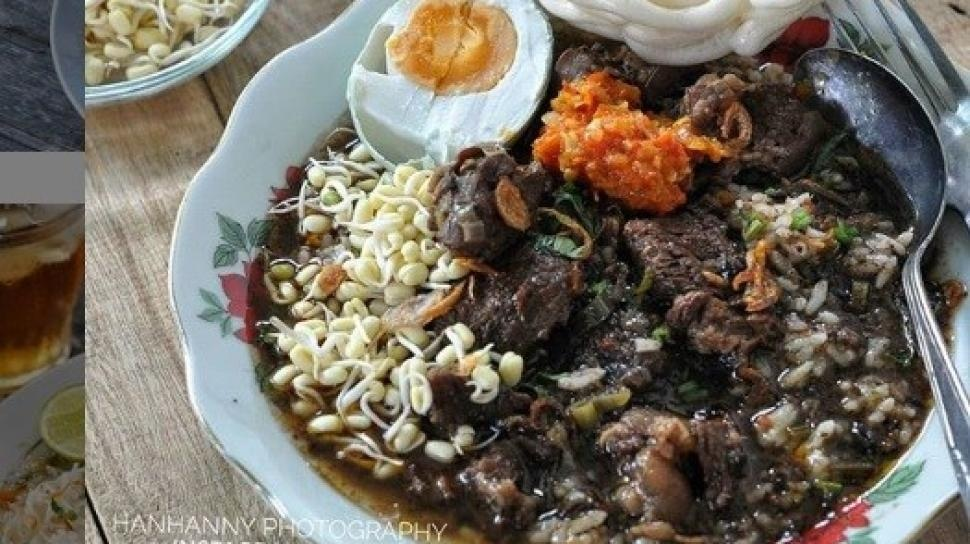rawon: (217, 39, 944, 529)
